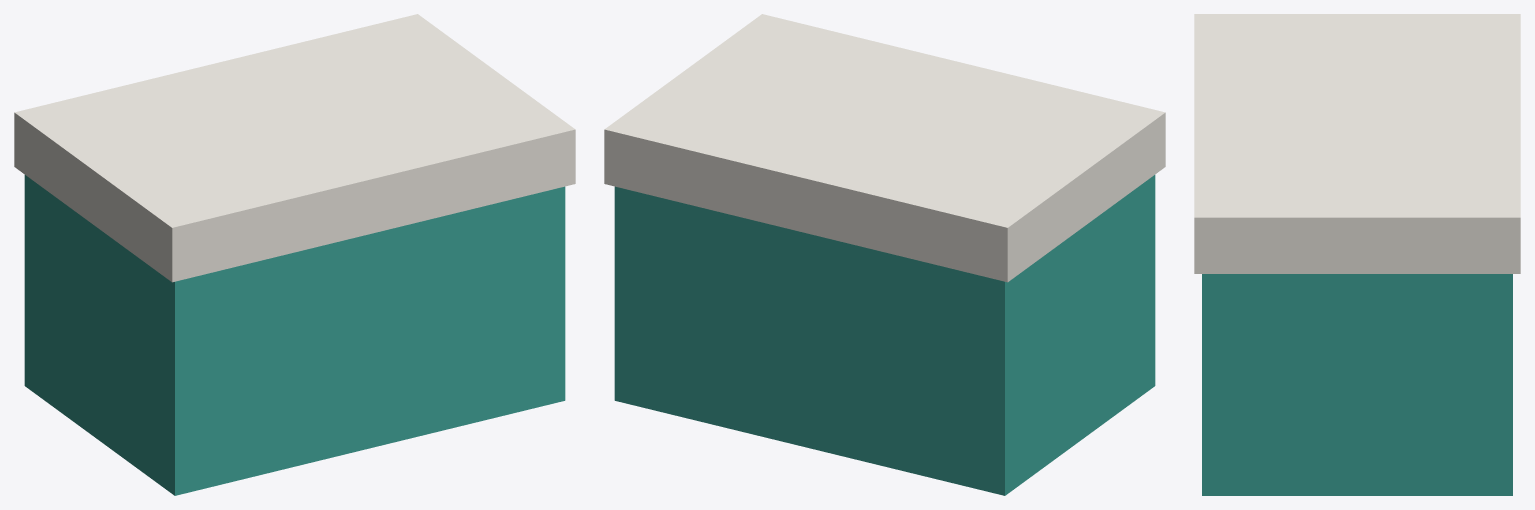
File: atlas-ar-demo.glb
The picture shows the model from 3 angles, left to right: view 1: azimuth 30°, elevation 25°; view 2: azimuth 150°, elevation 25°; view 3: azimuth 270°, elevation 25°; orthographic projection. The views are drawn at different scales.
Visible parts, largest first — view 1: Base, Lid; view 2: Base, Lid; view 3: Lid, Base.
Part boxes in pixels (box(x1,y1,x2,y2)): Base: box(24, 175, 565, 495); Lid: box(14, 14, 575, 282); Base: box(614, 175, 1155, 495); Lid: box(604, 14, 1165, 282); Lid: box(1194, 14, 1520, 273); Base: box(1202, 274, 1512, 495).
Bounding box in the file's own units: 0.31 × 0.2 × 0.21.
